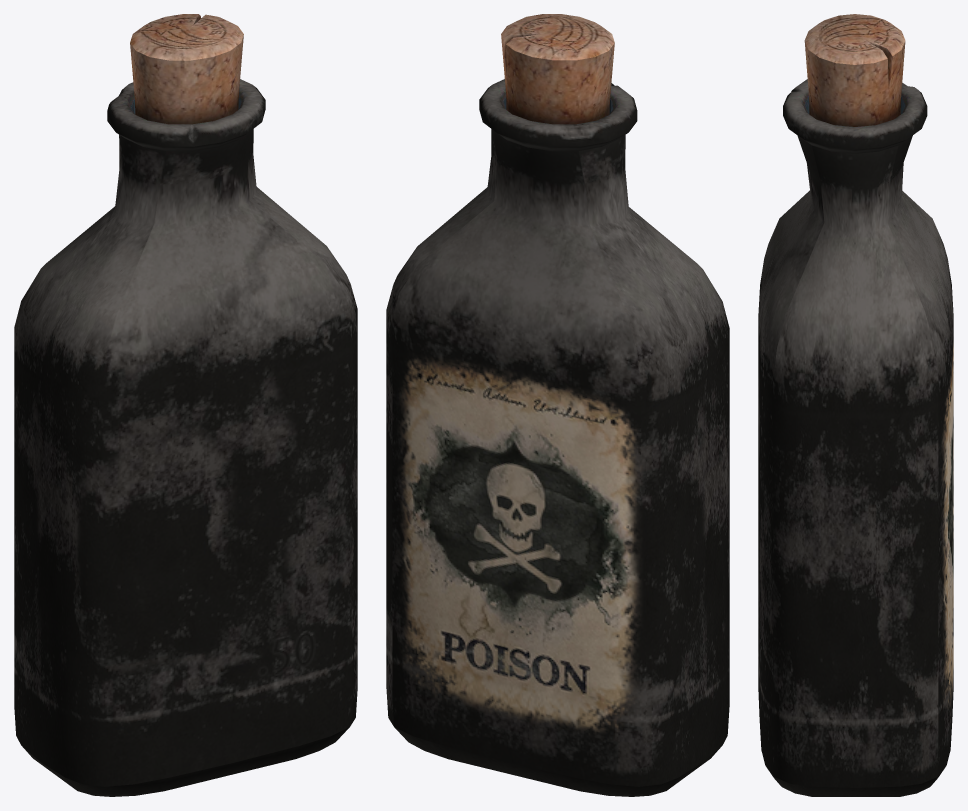
Rendered from wednesday_addams_signature_poison_bottle.glb.
3 views of the same model, side by side, from view 1: azimuth 30°, elevation 25°; view 2: azimuth 150°, elevation 25°; view 3: azimuth 270°, elevation 25° (orthographic).
Visible parts, largest first — view 1: Bottle_LP_meshId1_name_Bottle_Poison_01_Bottle_Poison_02_alb, Cork_LP_meshId0_name_Bottle_Poison_01_Bottle_Poison_01_albed; view 2: Bottle_LP_meshId1_name_Bottle_Poison_01_Bottle_Poison_02_alb, Cork_LP_meshId0_name_Bottle_Poison_01_Bottle_Poison_01_albed; view 3: Bottle_LP_meshId1_name_Bottle_Poison_01_Bottle_Poison_02_alb, Cork_LP_meshId0_name_Bottle_Poison_01_Bottle_Poison_01_albed.
Part boxes in pixels (x1=…): Bottle_LP_meshId1_name_Bottle_Poison_01_Bottle_Poison_02_alb: x1=14, y1=79, x2=357, y2=796; Cork_LP_meshId0_name_Bottle_Poison_01_Bottle_Poison_01_albed: x1=130, y1=14, x2=243, y2=124; Bottle_LP_meshId1_name_Bottle_Poison_01_Bottle_Poison_02_alb: x1=386, y1=79, x2=729, y2=796; Cork_LP_meshId0_name_Bottle_Poison_01_Bottle_Poison_01_albed: x1=501, y1=14, x2=614, y2=124; Bottle_LP_meshId1_name_Bottle_Poison_01_Bottle_Poison_02_alb: x1=758, y1=79, x2=953, y2=796; Cork_LP_meshId0_name_Bottle_Poison_01_Bottle_Poison_01_albed: x1=804, y1=14, x2=905, y2=126.
Bounding box in the file's own units: 0.1271 × 0.2938 × 0.0742.
3 materials, 3 textured.
